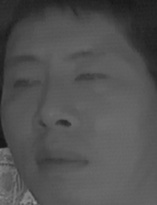eye: (73, 67, 110, 85), (10, 73, 43, 93)
mouth: (29, 145, 89, 181)
